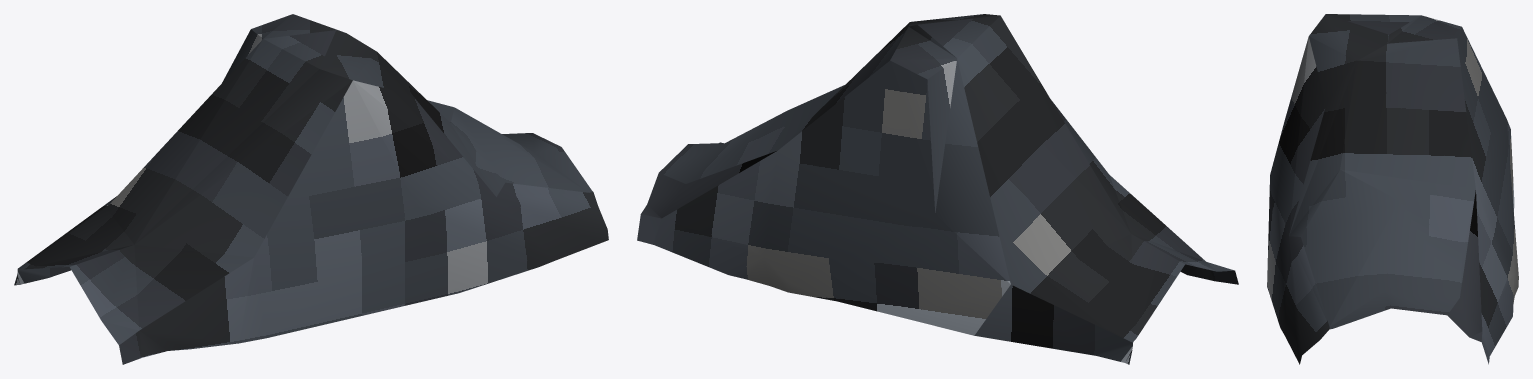
Rendered from mira.glb.
3 views of the same model, side by side, from view 1: azimuth 30°, elevation 25°; view 2: azimuth 150°, elevation 25°; view 3: azimuth 270°, elevation 25° (orthographic). The views are drawn at different scales.
Visible parts, largest first — view 1: geometry_0; view 2: geometry_0; view 3: geometry_0.
Boxes of the visible parts, <box> form: geometry_0: <box>14,14,608,364</box>; geometry_0: <box>637,14,1238,364</box>; geometry_0: <box>1267,14,1518,364</box>.
Size of the model in its own units: 0.11 by 0.0494 by 0.0504.
Materials: 1 (1 with a texture image).
